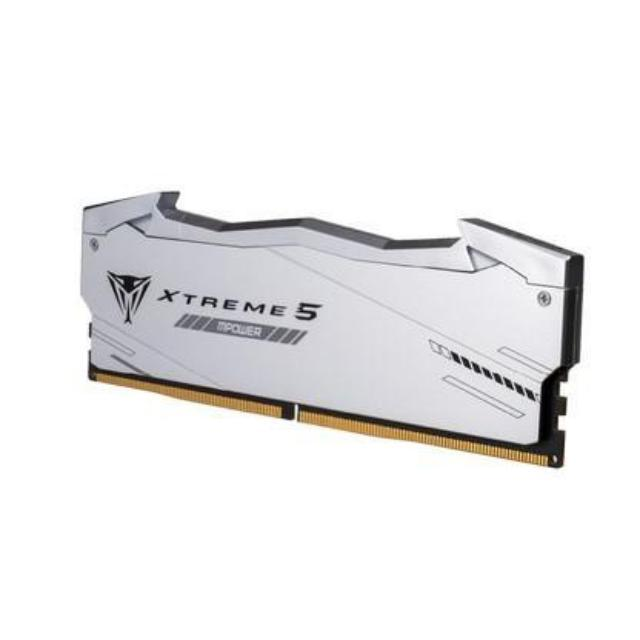RAM: (74, 179, 582, 472)
